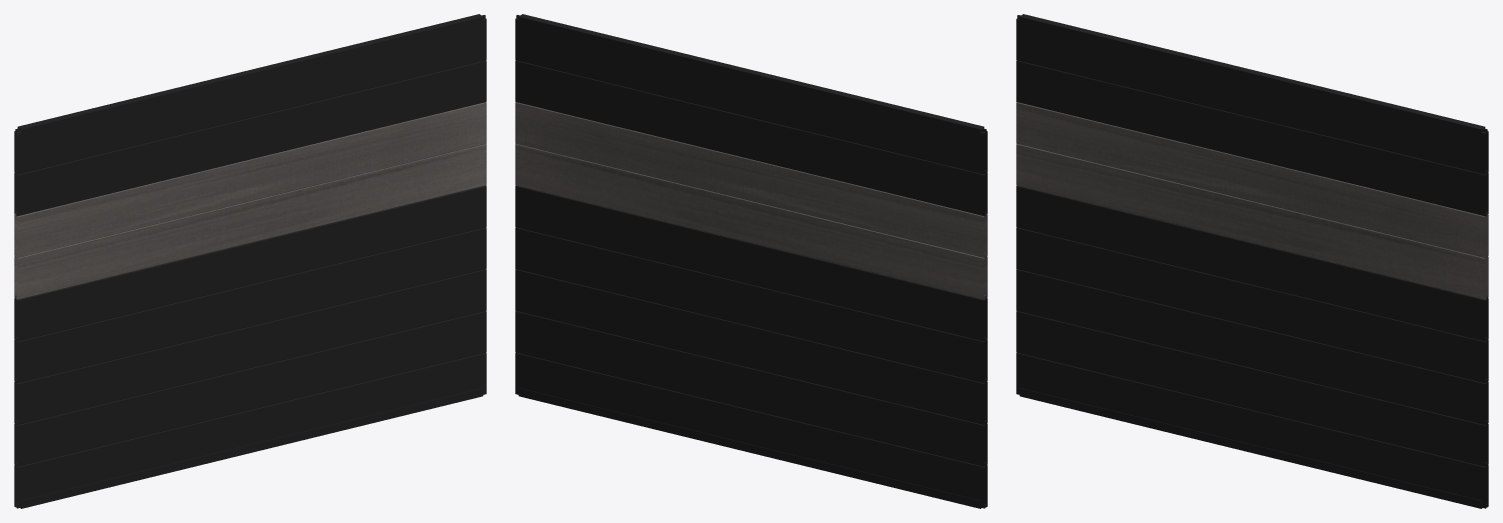
Rendered from BN002H5_LAM1-2.obj.
3 views of the same model, side by side, from view 1: azimuth 30°, elevation 25°; view 2: azimuth 150°, elevation 25°; view 3: azimuth 330°, elevation 25° (orthographic).
Parts seen in each view (by area): view 1: lame.379_Cube.000; view 2: lame.379_Cube.000; view 3: lame.379_Cube.000.
Boxes of the visible parts, x1,y1,x2,y2 form: lame.379_Cube.000: (14, 14, 486, 508); lame.379_Cube.000: (515, 14, 987, 508); lame.379_Cube.000: (1016, 14, 1488, 508).
Bounding box in the file's own units: 1.78 × 1.37 × 0.025.
Materials: 2 (1 with a texture image).
